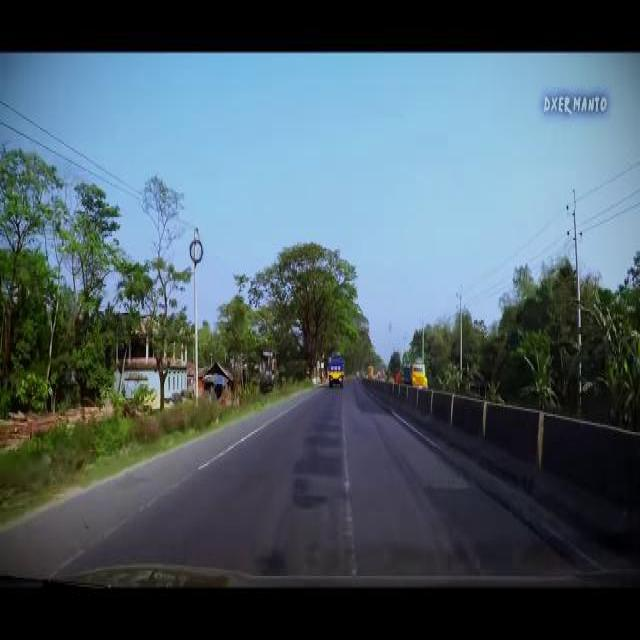truck: (400, 356, 428, 386), (325, 350, 345, 386)
